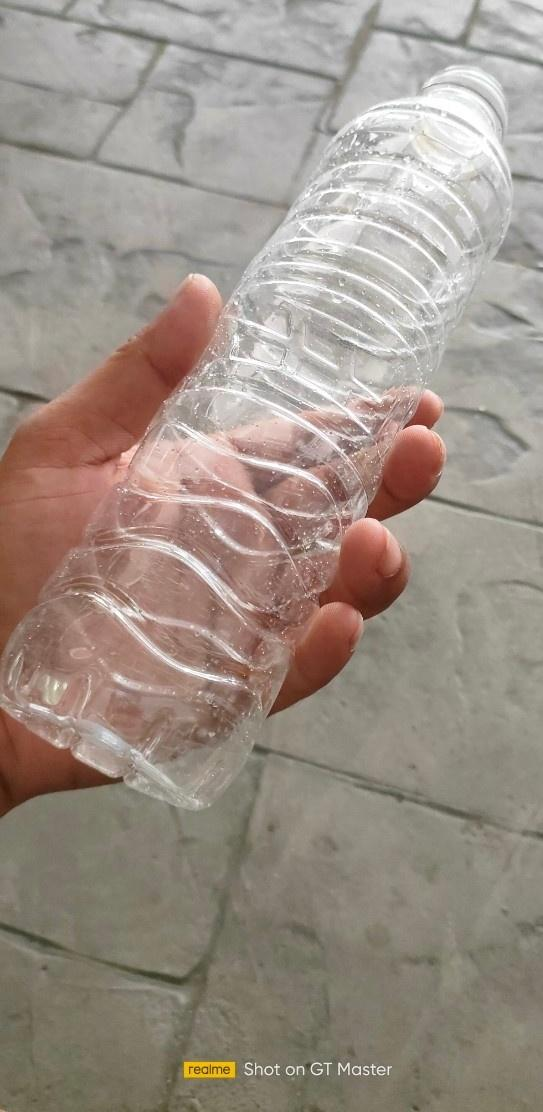plastic_bottle: (0, 63, 515, 809)
